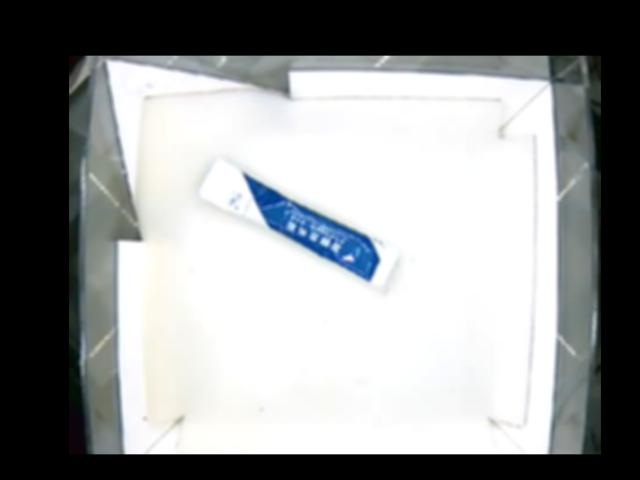Medicine: (197, 160, 402, 290)
